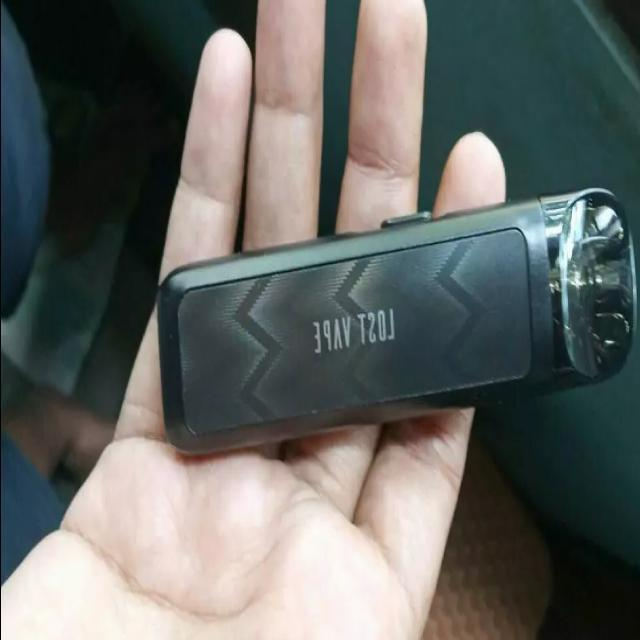Hazard: (158, 182, 640, 448)
